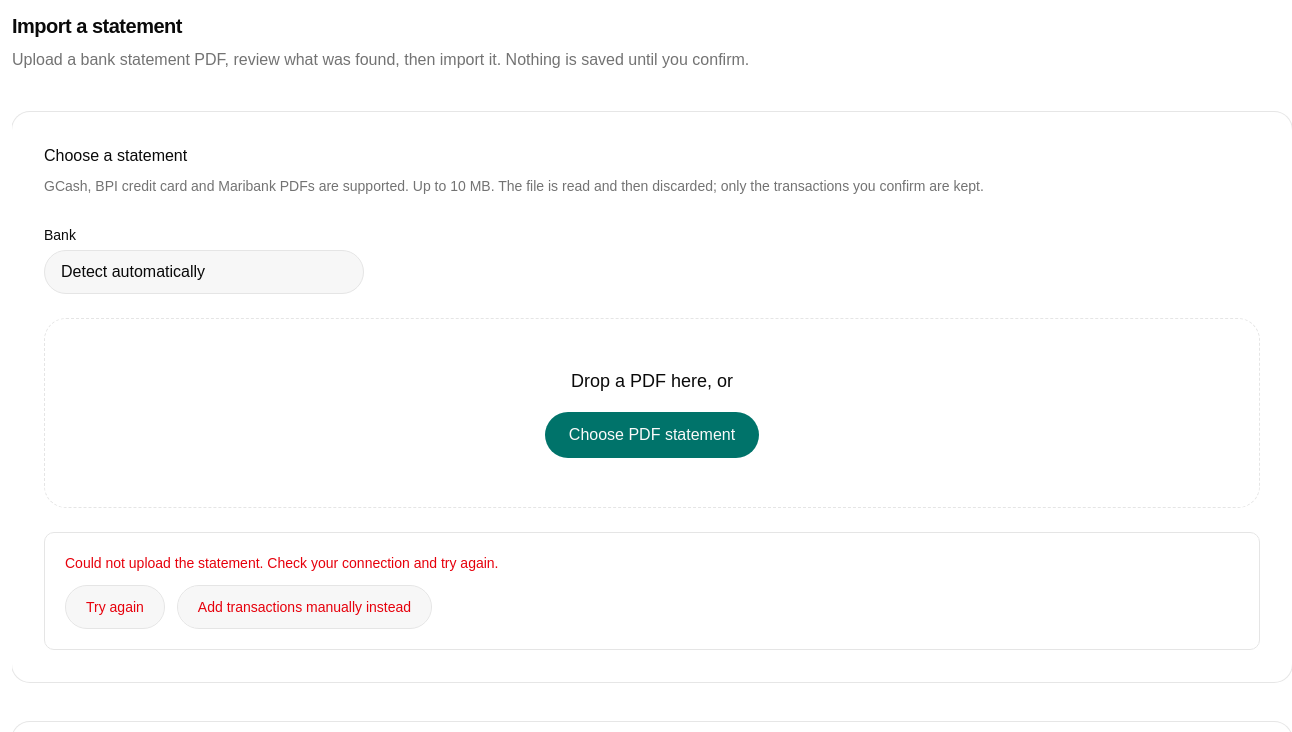
upload › a network failure shows a connection message, and Try again re-sends the same file
Earlier steps of the test are not shown.
Expected: the text "Check your connection" is shown, left=65, top=555, right=498, bottom=571
Click the button "Try again".
click(115, 607)  # box left=65, top=585, right=165, bottom=629
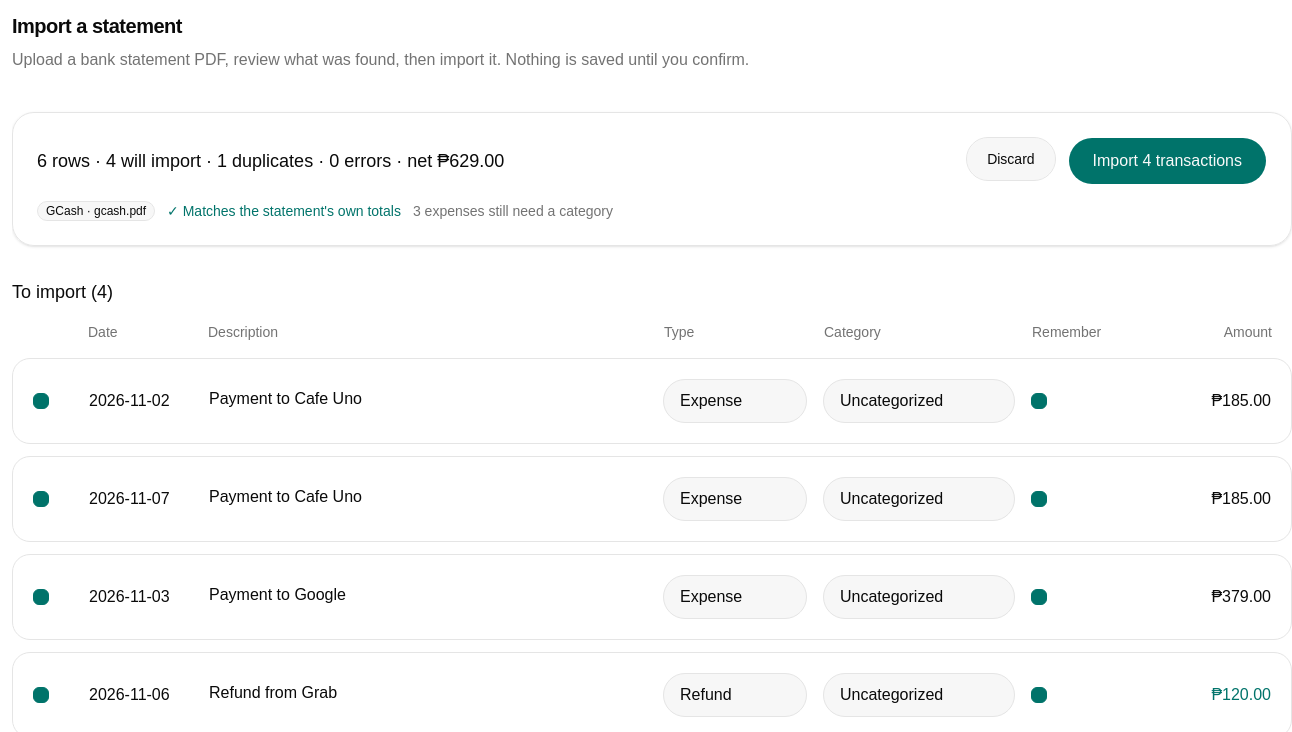
Now the text "rows ·" is shown, box left=47, top=151, right=106, bottom=171
